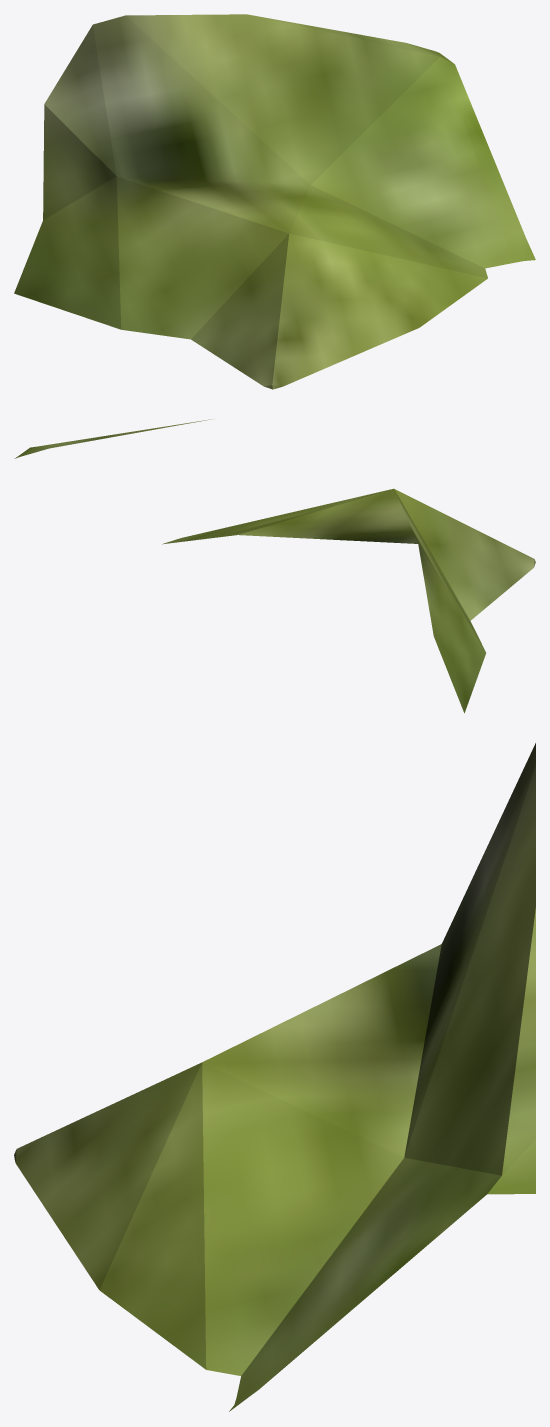
3 renders of one model, top to bottom at view 1: azimuth 30°, elevation 25°; view 2: azimuth 150°, elevation 25°; view 3: azimuth 270°, elevation 25°, orthographic. The views are drawn at different scales.
Bounding box in the file's own units: 0.2936 × 0.1653 × 0.1949.
Materials: 1 (1 with a texture image).
